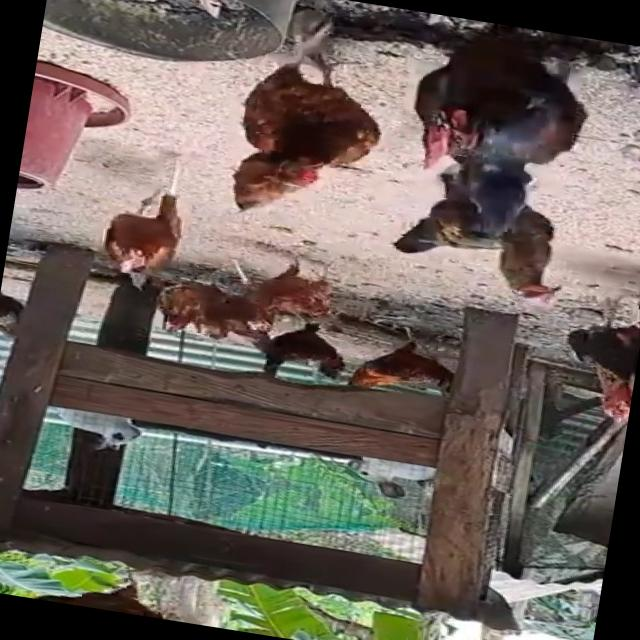running: (366, 40, 594, 238), (204, 35, 398, 229), (392, 178, 610, 309), (84, 158, 220, 304), (244, 250, 349, 348)
